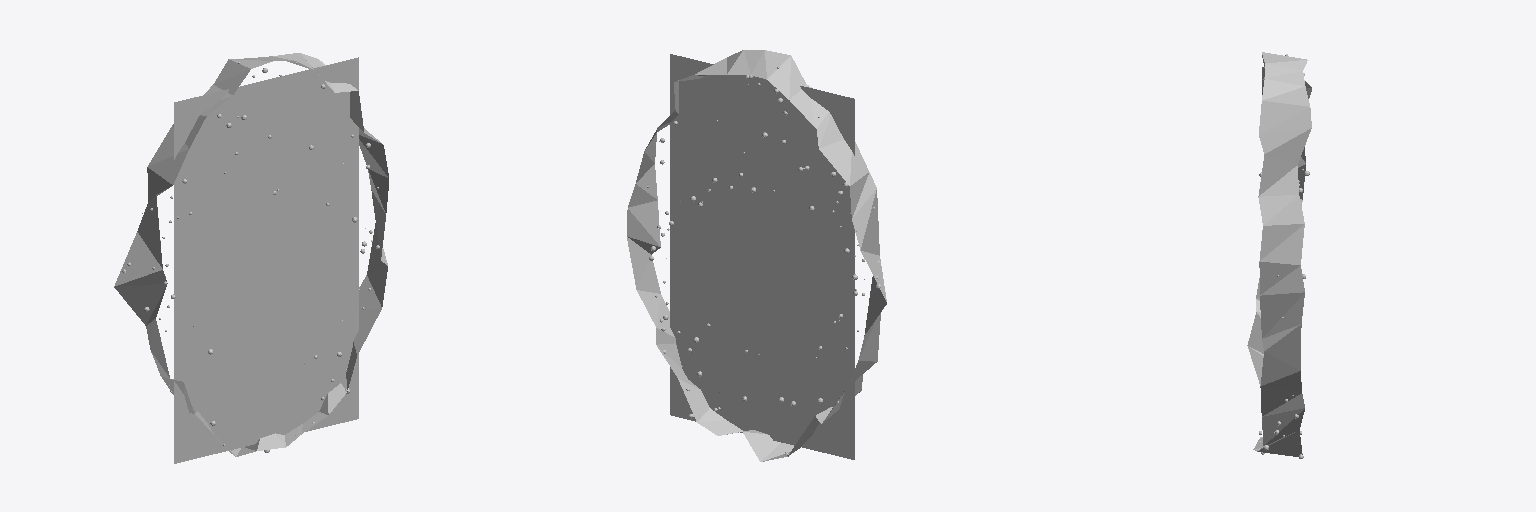
Rendered from Portal.obj.
3 renders of one model, left to right at view 1: azimuth 30°, elevation 25°; view 2: azimuth 150°, elevation 25°; view 3: azimuth 270°, elevation 25°, orthographic.
Visible parts, largest first — view 1: Plane, Cylinder, Icosphere; view 2: Plane, Cylinder, Icosphere; view 3: Cylinder.
Boxes of the visible parts, box(x1,y1,x2,y2) form: Plane: box(174, 57, 358, 463); Cylinder: box(114, 53, 388, 456); Icosphere: box(122, 62, 379, 452); Plane: box(670, 54, 854, 459); Cylinder: box(627, 50, 886, 461); Icosphere: box(647, 66, 880, 456); Cylinder: box(1247, 52, 1311, 456).
Bounding box in the file's own units: 10.97 × 15.87 × 2.37.